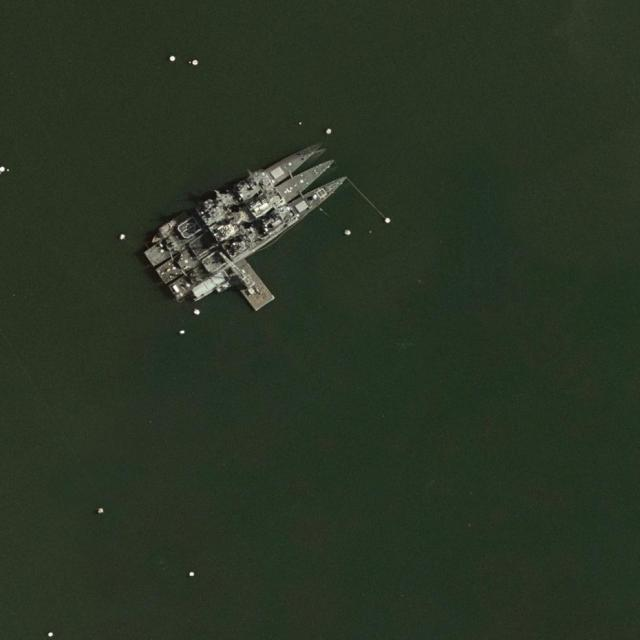Cruiser: (155, 151, 339, 284), (143, 134, 328, 266), (167, 169, 352, 301)
